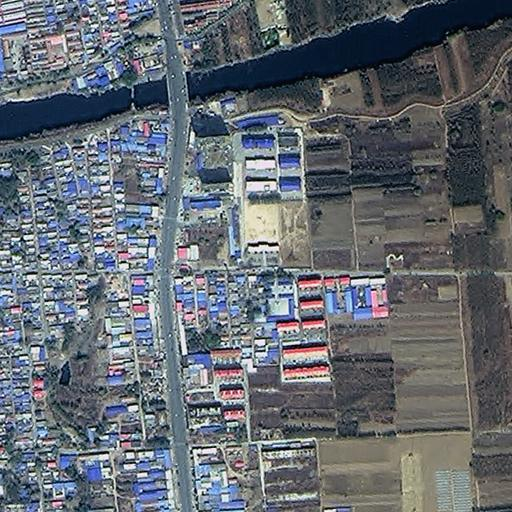school: (237, 127, 301, 258)
